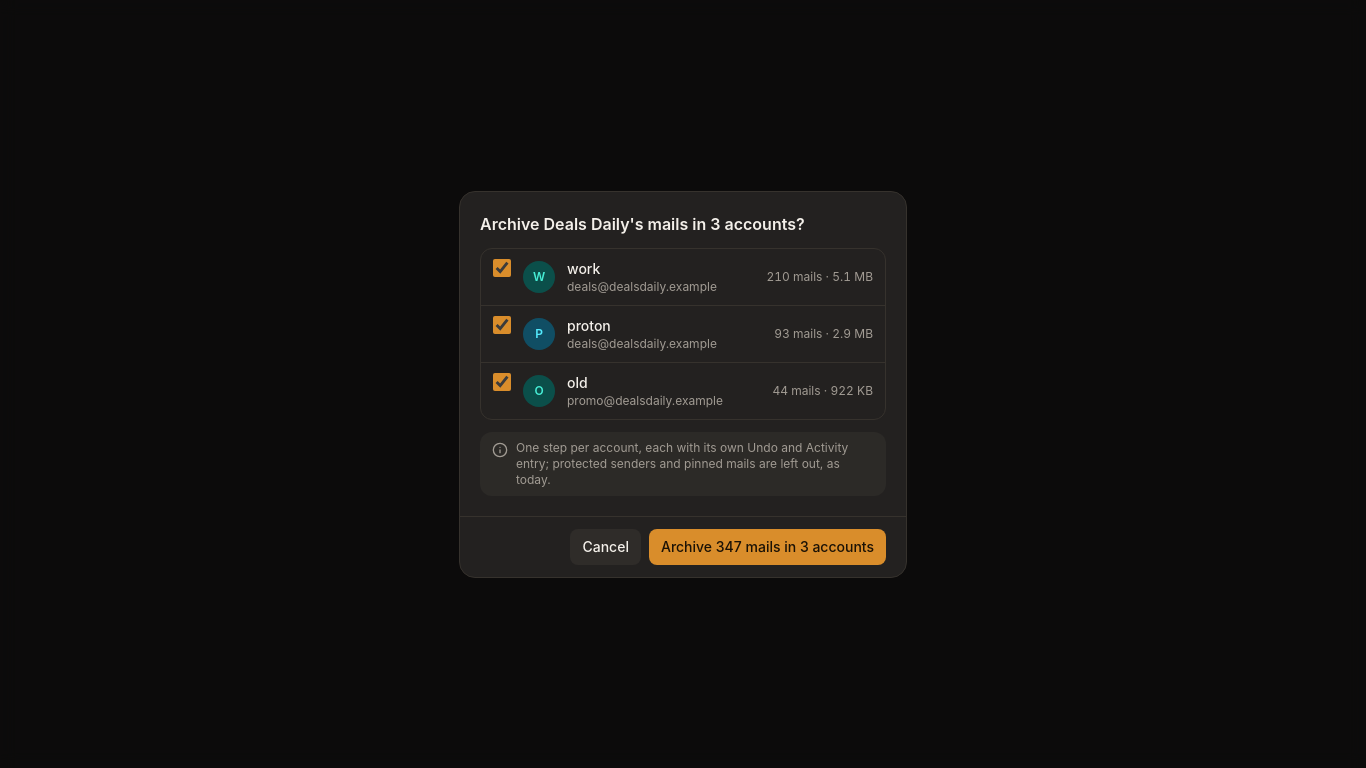
Test case: an account removed while the confirm was open is skipped and said so
Expected: the heading "Archive Deals Daily's mails in 3 accounts?" is shown, 480,214 -> 805,234
Click the button "Archive 347 mails in 3 accounts" at (768, 546), box 649,528 -> 886,564
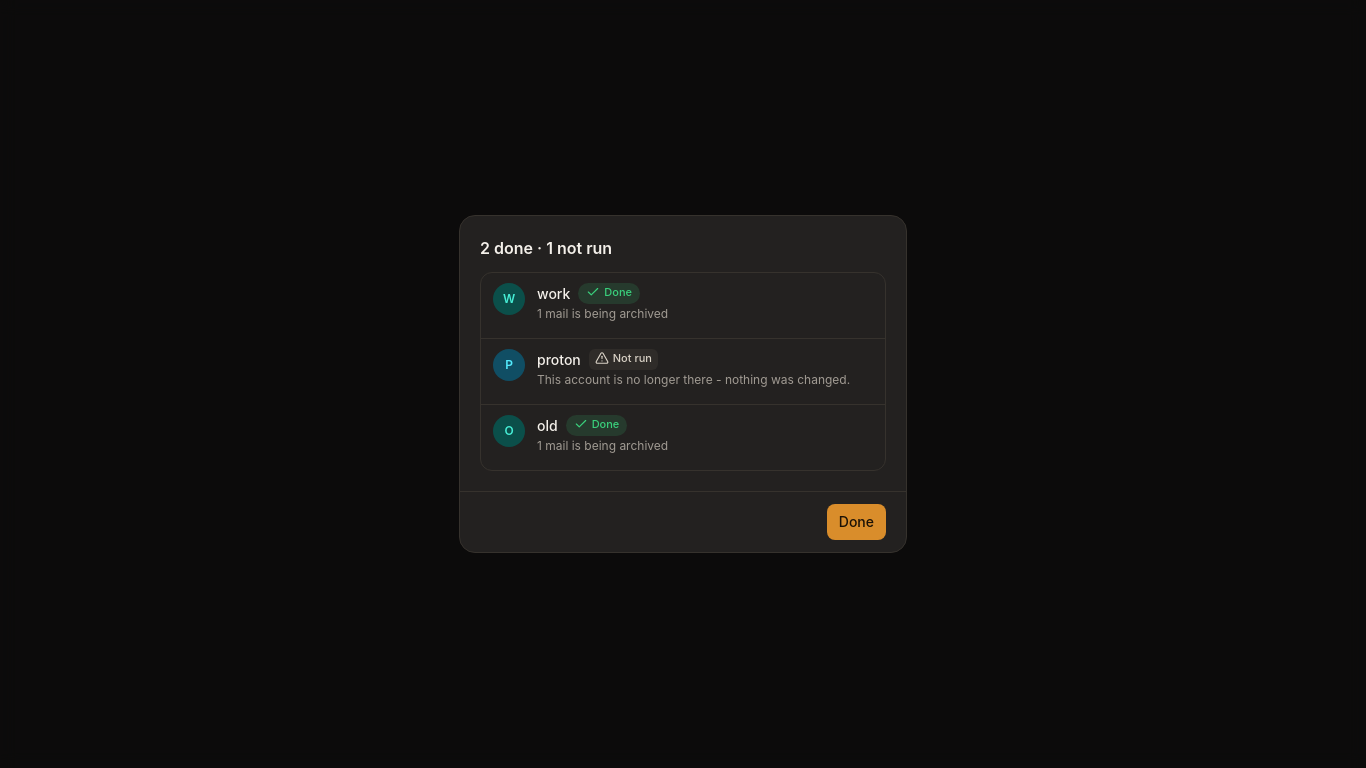
Expected: the heading "2 done · 1 not run" is shown, 480,238 -> 612,258
Expected: the text "This account is no longer there - nothing was changed." is shown, 537,372 -> 873,388
